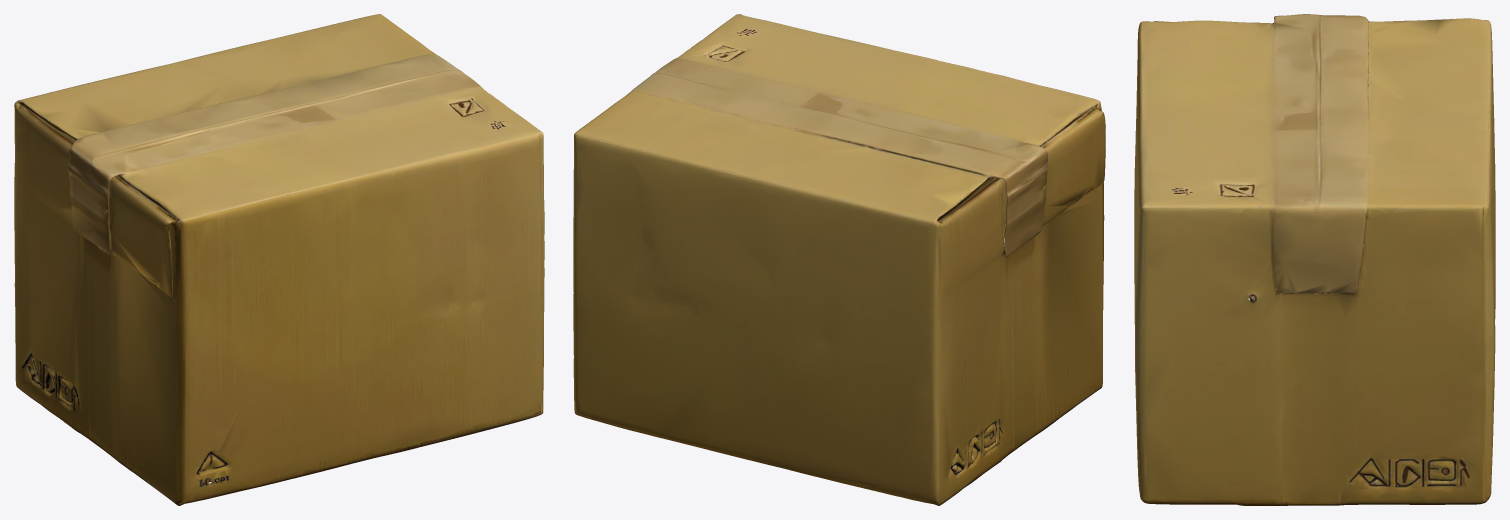
3 views of the same model, side by side, from view 1: azimuth 30°, elevation 25°; view 2: azimuth 150°, elevation 25°; view 3: azimuth 270°, elevation 25° (orthographic). The views are drawn at different scales.
Visible parts, largest first — view 1: tripo_node_88609963; view 2: tripo_node_88609963; view 3: tripo_node_88609963.
Boxes of the visible parts, x1,y1,x2,y2 form: tripo_node_88609963: (14,14,544,505); tripo_node_88609963: (573,14,1105,505); tripo_node_88609963: (1134,14,1495,505).
Bounding box in the file's own units: 98.11 × 72.65 × 76.98.
Materials: 1 (1 with a texture image).
